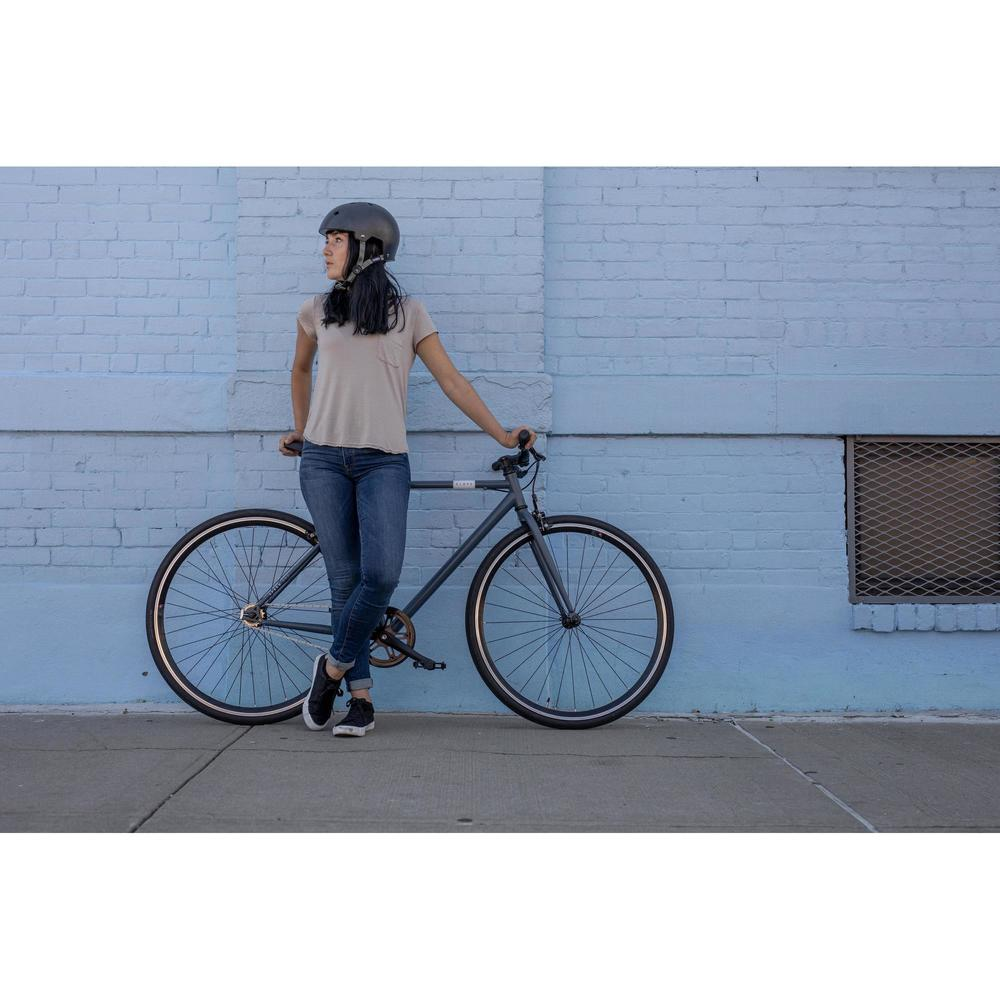UrbanBike: (147, 439, 658, 741)
